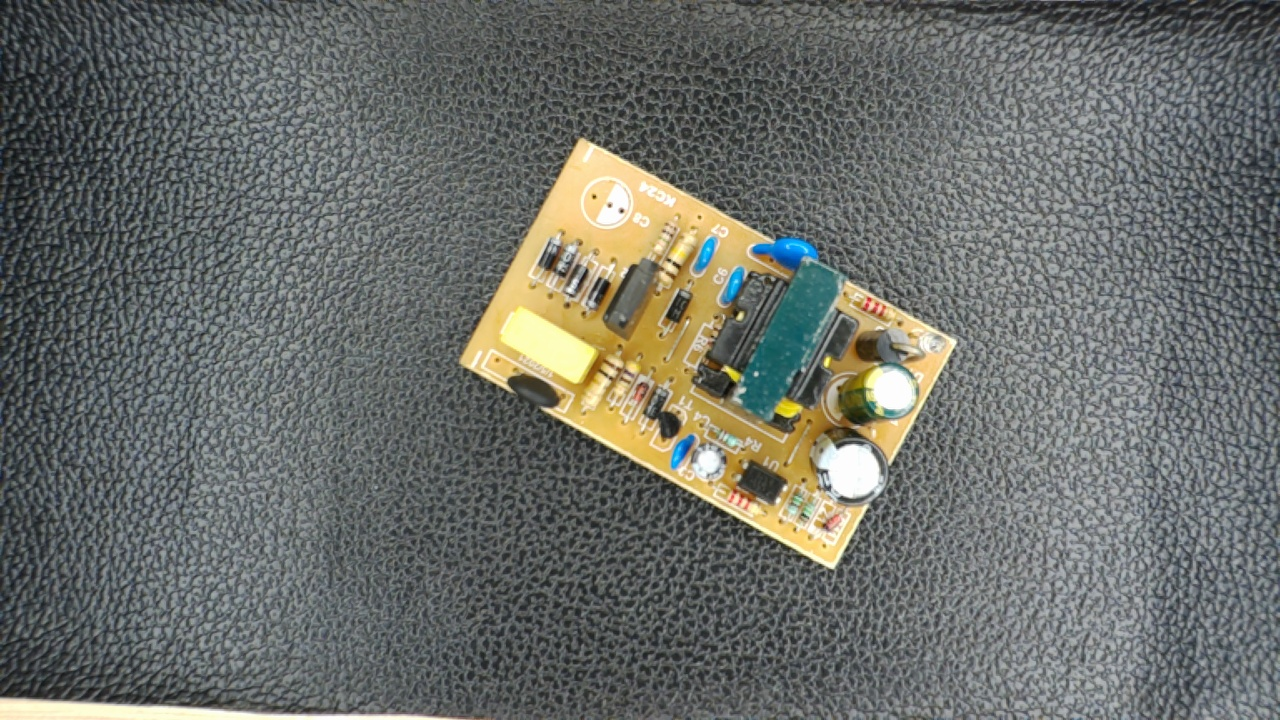fuse: (500, 366, 566, 414)
mov: (746, 234, 825, 275)
optocoupler: (729, 455, 791, 510)
